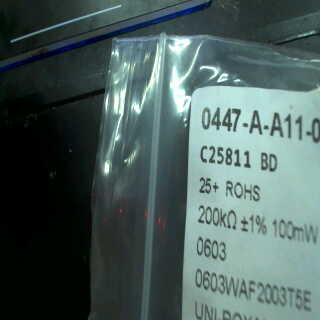200kR: (192, 205, 237, 227)
